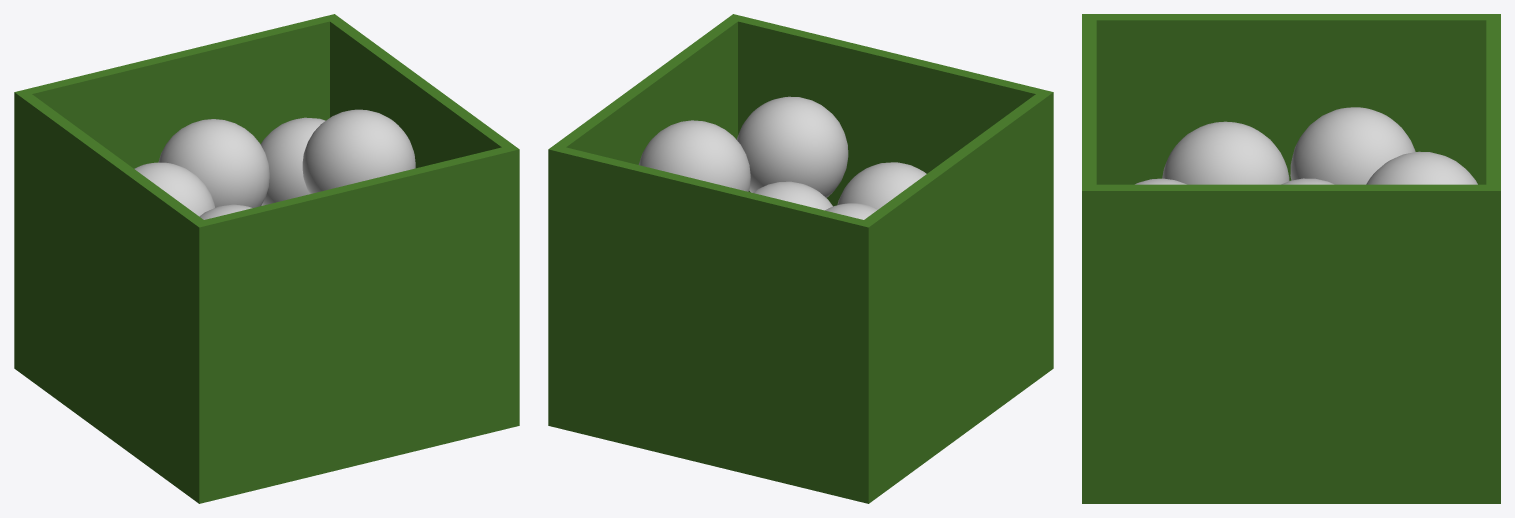
File: BallBox.fbx
3 views of the same model, side by side, from view 1: azimuth 30°, elevation 25°; view 2: azimuth 150°, elevation 25°; view 3: azimuth 270°, elevation 25° (orthographic). The views are drawn at different scales.
Parts seen in each view (by area): view 1: BallBox; view 2: BallBox; view 3: BallBox.
Part boxes in pixels (x1,y1,x2,y2): BallBox: (14, 14, 519, 503); BallBox: (548, 14, 1053, 503); BallBox: (1082, 14, 1500, 503).
Size of the model in its own units: 21.18 by 17.46 by 21.18.
